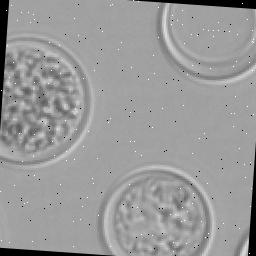picoshell: (0, 35, 94, 167), (100, 165, 216, 256), (157, 4, 256, 85), (236, 231, 249, 256)
